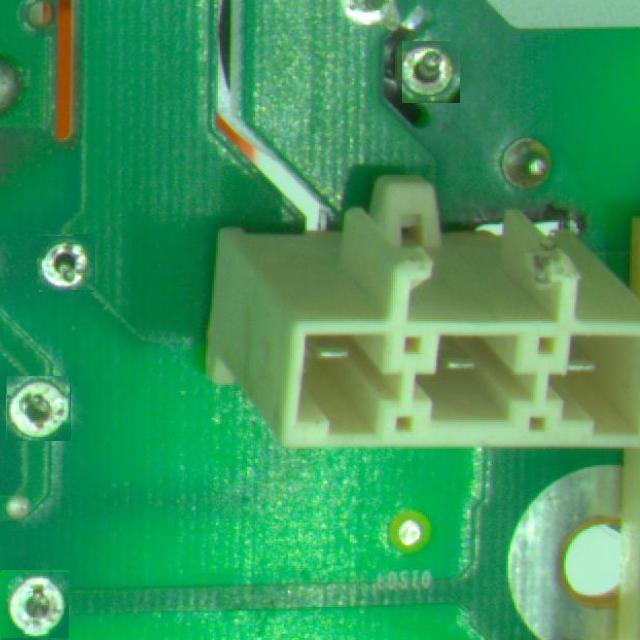lack_of_part: (0, 571, 69, 639), (6, 376, 71, 441), (401, 42, 462, 102), (38, 235, 95, 291)
